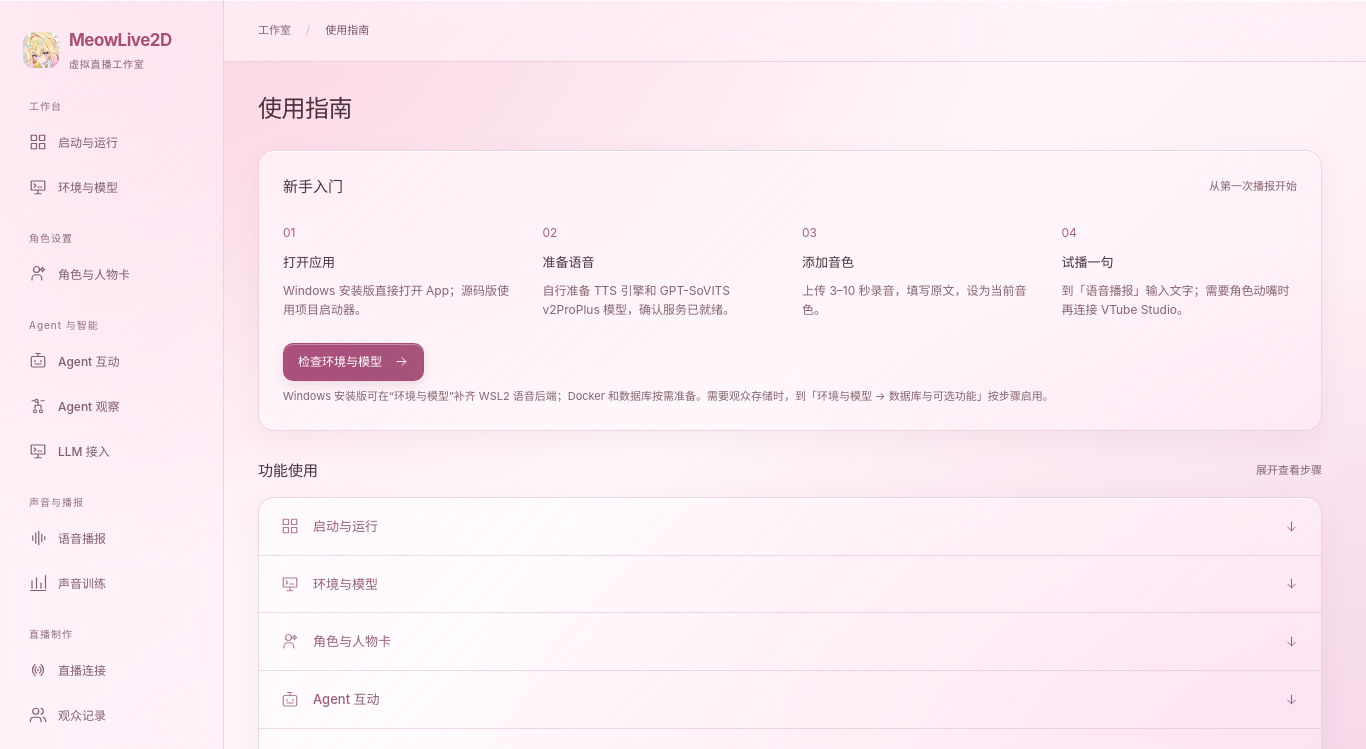
opens a guide deep link before the main service is ready and can navigate to setup
Expected: the heading "使用指南" is shown, [258,92,352,126]
Expected: the heading "新手入门" is shown, [283,175,343,199]
Click the button "检查环境与模型" at [354, 362], box [283,343,424,381]
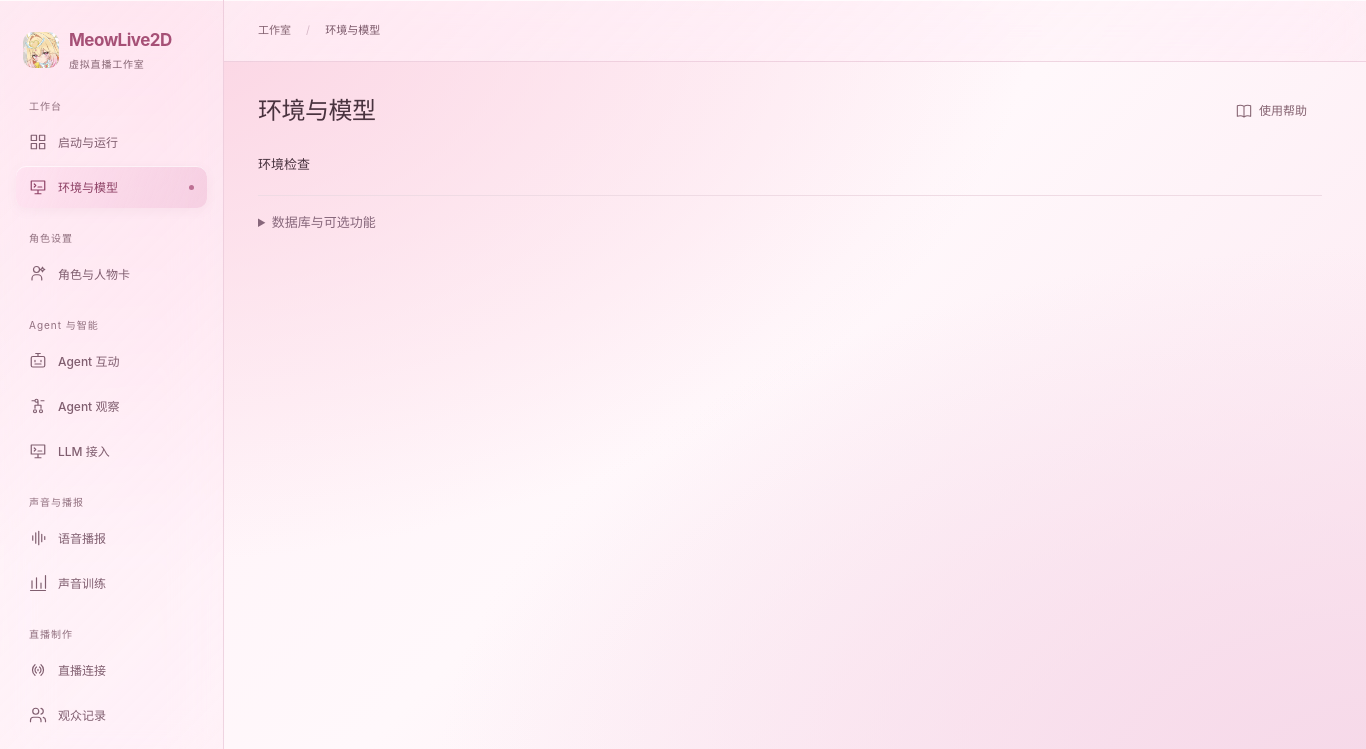
Result: the text "环境检查" is shown at [258,156,310,172]
Click the heading "数据库与可选功能" at [324, 222], box [272,214,376,230]
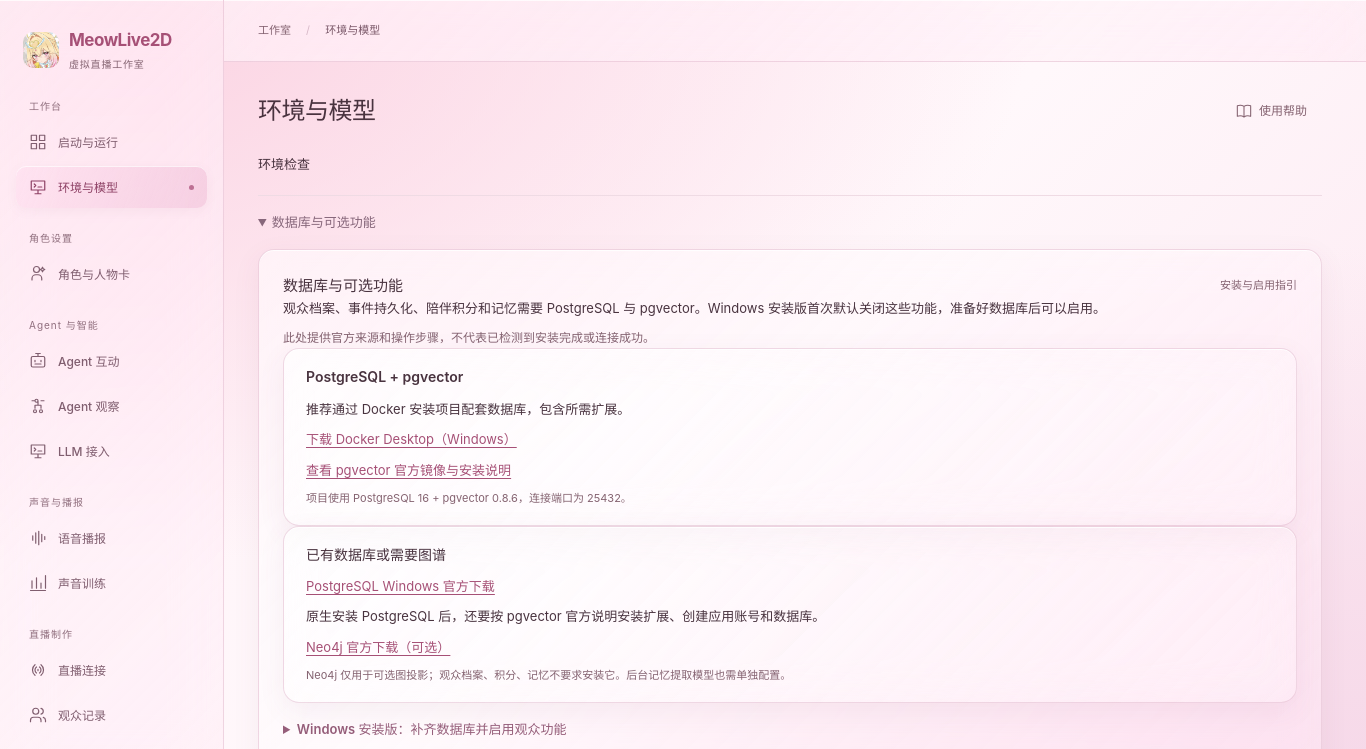
Result: the heading "数据库与可选功能" in the row of "安装与启用指引" is shown at [283,274,403,298]
